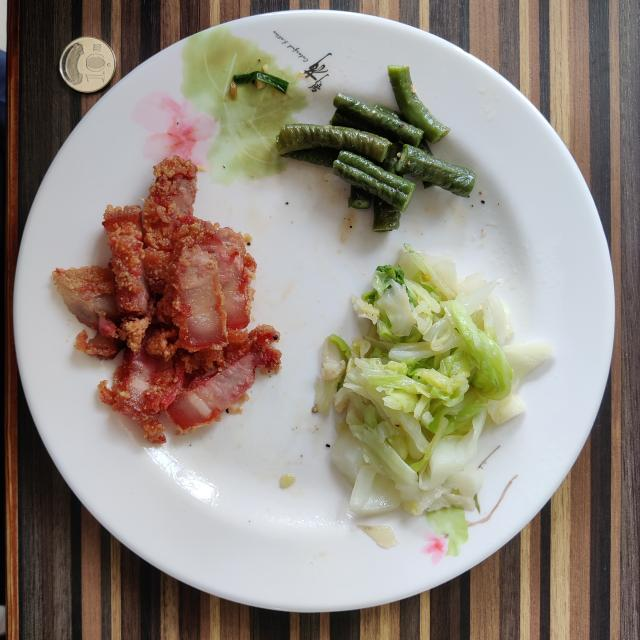cabbage: (316, 246, 551, 516)
coin: (60, 36, 115, 92)
red grilled pork: (52, 156, 281, 444)
